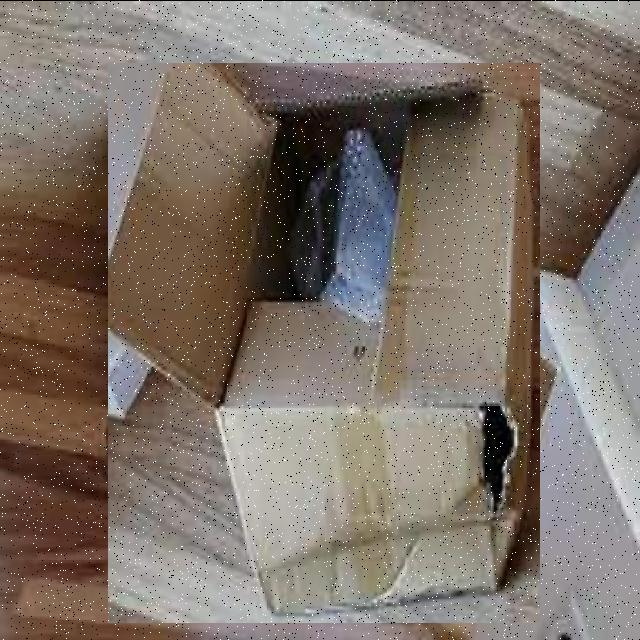defect: (108, 61, 540, 622)
